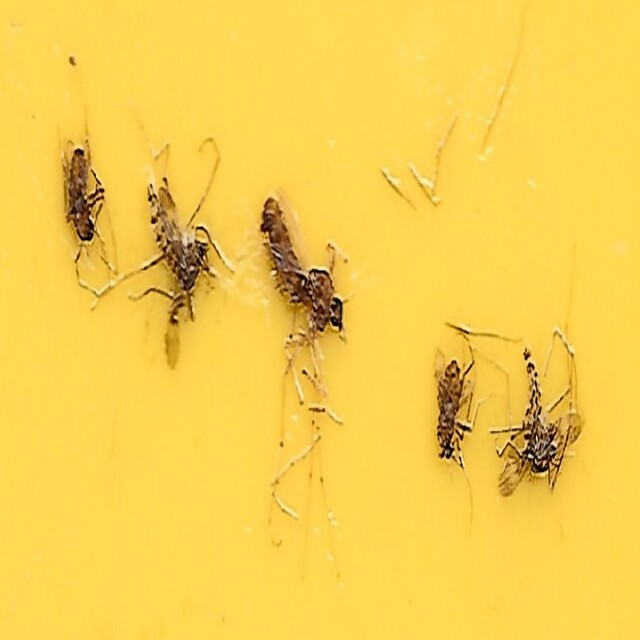Nematocera: (257, 181, 348, 362), (140, 175, 214, 374), (496, 344, 583, 504), (429, 336, 476, 472), (57, 136, 105, 261)
